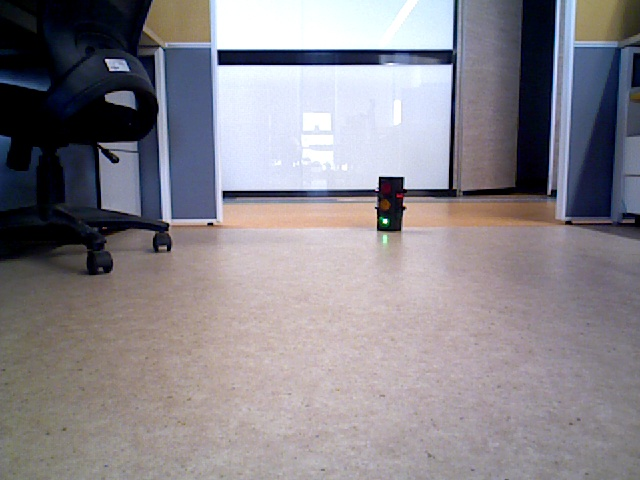green: (378, 178, 399, 223)
